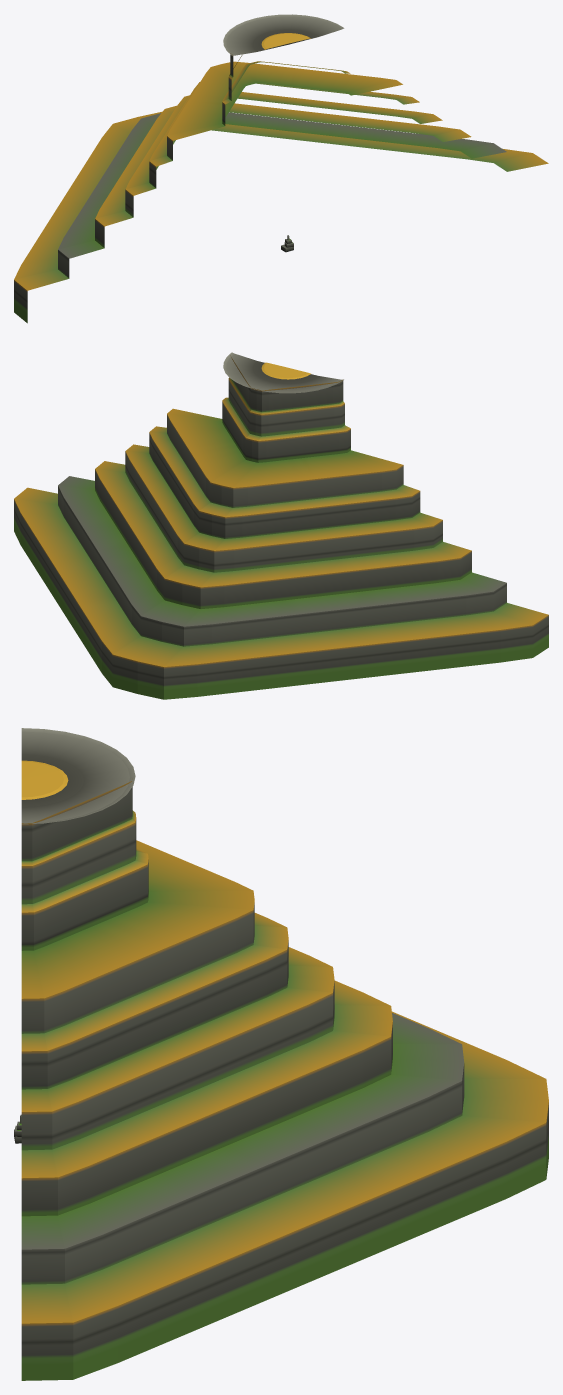
Rendered from temple-s1--1CarQw4.glb.
3 views of the same model, one above another, from view 1: azimuth 30°, elevation 25°; view 2: azimuth 150°, elevation 25°; view 3: azimuth 270°, elevation 25° (orthographic). The views are drawn at different scales.
Visible parts, largest first — view 1: sc_landmark_0; view 2: sc_landmark_0; view 3: sc_landmark_0.
Part boxes in pixels (x1,y1,x2,y2): sc_landmark_0: (14,14,548,323); sc_landmark_0: (14,352,548,699); sc_landmark_0: (21,728,548,1380).
Size of the model in its own units: 758 by 303 by 385.
